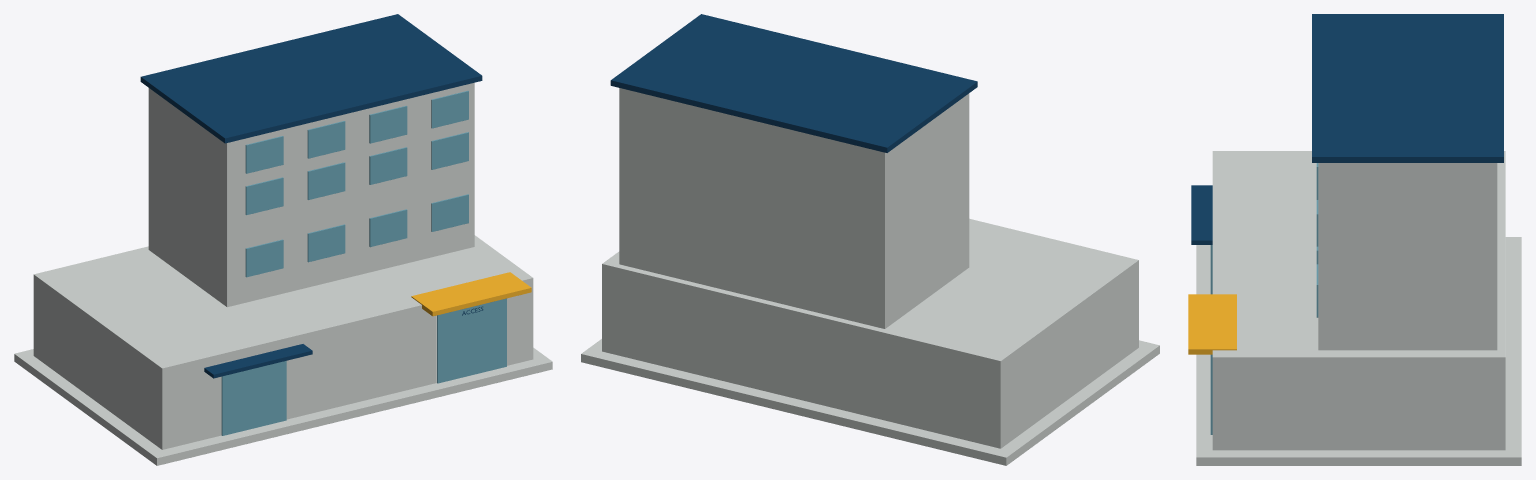
3 views of the same model, side by side, from view 1: azimuth 30°, elevation 25°; view 2: azimuth 150°, elevation 25°; view 3: azimuth 270°, elevation 25° (orthographic). The views are drawn at different scales.
Visible parts, largest first — view 1: WARD_FrontPier, PODIUM_Roof, ROOF, WARD_Side, PODIUM_FrontPier.001, PODIUM_Side, FOUNDATION, PODIUM_FrontPier, AMBULANCE_Entrance, PUBLIC_Entrance, AMBULANCE_Canopy, PODIUM_FrontPier.002 (+14 smaller); view 2: WARD_Back, PODIUM_Back, ROOF, PODIUM_Roof, WARD_Side, PODIUM_Side, FOUNDATION; view 3: WARD_Side.001, ROOF, PODIUM_Side.001, PODIUM_Roof, FOUNDATION, AMBULANCE_Canopy, PODIUM_Back, PUBLIC_Canopy, WARD_FrontPier, WARD_Back, PODIUM_FrontPier.002.
Part boxes in pixels (box(x1,y1,x2,y2)): WARD_FrontPier: box(225, 83, 474, 306); PODIUM_Roof: box(33, 235, 526, 369); ROOF: box(140, 14, 482, 143); WARD_Side: box(148, 88, 230, 307); PODIUM_FrontPier.001: box(284, 304, 436, 419); PODIUM_Side: box(33, 275, 165, 449); FOUNDATION: box(14, 347, 552, 465); PODIUM_FrontPier: box(160, 352, 221, 449); AMBULANCE_Entrance: box(437, 298, 506, 383); PUBLIC_Entrance: box(221, 361, 286, 435); AMBULANCE_Canopy: box(411, 272, 531, 316); PODIUM_FrontPier.002: box(507, 276, 533, 365); WARD_Back: box(619, 88, 887, 328); PODIUM_Back: box(602, 262, 1003, 448); ROOF: box(610, 14, 977, 152); PODIUM_Roof: box(605, 221, 1136, 365); WARD_Side: box(880, 95, 969, 328); PODIUM_Side: box(999, 259, 1137, 447); FOUNDATION: box(581, 339, 1159, 465); WARD_Side.001: box(1318, 163, 1497, 350); ROOF: box(1312, 14, 1503, 162); PODIUM_Side.001: box(1212, 356, 1505, 450); PODIUM_Roof: box(1212, 151, 1505, 361); FOUNDATION: box(1196, 237, 1521, 465); AMBULANCE_Canopy: box(1188, 294, 1236, 354); PODIUM_Back: box(1500, 151, 1505, 450); PUBLIC_Canopy: box(1191, 185, 1212, 244); WARD_FrontPier: box(1318, 163, 1323, 350); WARD_Back: box(1492, 163, 1497, 350); PODIUM_FrontPier.002: box(1212, 350, 1217, 449).
Size of the model in its own units: 16 by 10.1 by 10.25.
